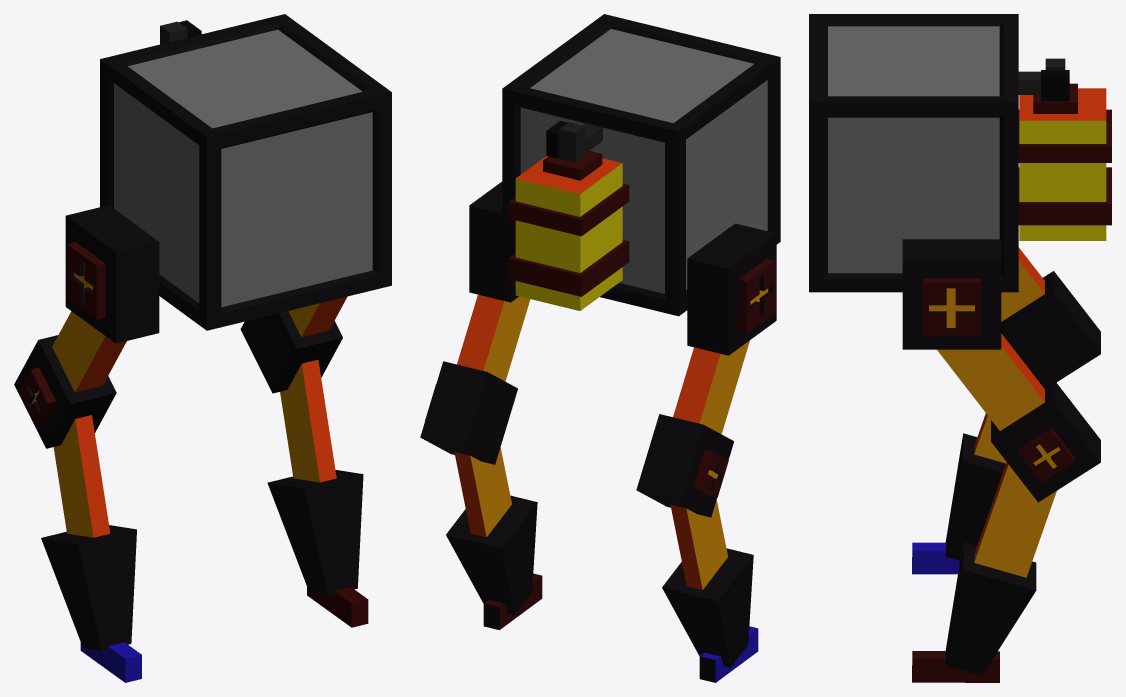
File: FishTestExport.dae
3 views of the same model, side by side, from view 1: azimuth 30°, elevation 25°; view 2: azimuth 150°, elevation 25°; view 3: azimuth 270°, elevation 25° (orthographic). The views are drawn at different scales.
Visible parts, largest first — view 1: FishColored_BestPivots_FishColored_1_FishGame_2_pCube45, FishColored_BestPivots_polySurface18, FishColored_BestPivots_polySurface20, FishColored_BestPivots_polySurface10, FishColored_BestPivots_polySurface19, FishColored_BestPivots_polySurface17, FishColored_BestPivots_polySurface14; view 2: FishColored_BestPivots_FishColored_1_FishGame_2_pCube45, FishColored_BestPivots_polySurface18, FishColored_BestPivots_polySurface20, FishColored_BestPivots_polySurface10, FishColored_BestPivots_polySurface14, FishColored_BestPivots_polySurface17, FishColored_BestPivots_polySurface19; view 3: FishColored_BestPivots_FishColored_1_FishGame_2_pCube45, FishColored_BestPivots_polySurface20, FishColored_BestPivots_polySurface14, FishColored_BestPivots_polySurface18, FishColored_BestPivots_polySurface19, FishColored_BestPivots_polySurface10, FishColored_BestPivots_polySurface17.
Boxes of the visible parts, x1,y1,x2,y2 form: FishColored_BestPivots_FishColored_1_FishGame_2_pCube45: [100, 14, 391, 330]; FishColored_BestPivots_polySurface18: [14, 335, 136, 650]; FishColored_BestPivots_polySurface20: [240, 311, 363, 595]; FishColored_BestPivots_polySurface10: [52, 205, 159, 392]; FishColored_BestPivots_polySurface19: [307, 587, 368, 627]; FishColored_BestPivots_polySurface17: [80, 642, 141, 682]; FishColored_BestPivots_polySurface14: [288, 296, 346, 337]; FishColored_BestPivots_FishColored_1_FishGame_2_pCube45: [502, 14, 780, 316]; FishColored_BestPivots_polySurface18: [636, 414, 753, 667]; FishColored_BestPivots_polySurface20: [420, 361, 537, 614]; FishColored_BestPivots_polySurface10: [673, 223, 776, 434]; FishColored_BestPivots_polySurface14: [457, 181, 530, 381]; FishColored_BestPivots_polySurface17: [699, 626, 758, 682]; FishColored_BestPivots_polySurface19: [483, 573, 542, 629]; FishColored_BestPivots_FishColored_1_FishGame_2_pCube45: [809, 14, 1111, 292]; FishColored_BestPivots_polySurface20: [945, 379, 1100, 675]; FishColored_BestPivots_polySurface14: [902, 239, 1044, 430]; FishColored_BestPivots_polySurface18: [945, 271, 1100, 560]; FishColored_BestPivots_polySurface19: [912, 651, 999, 682]; FishColored_BestPivots_polySurface10: [1001, 247, 1044, 321]; FishColored_BestPivots_polySurface17: [912, 542, 959, 574].
Bounding box in the file's own units: 24.81 × 47.21 × 22.87.
